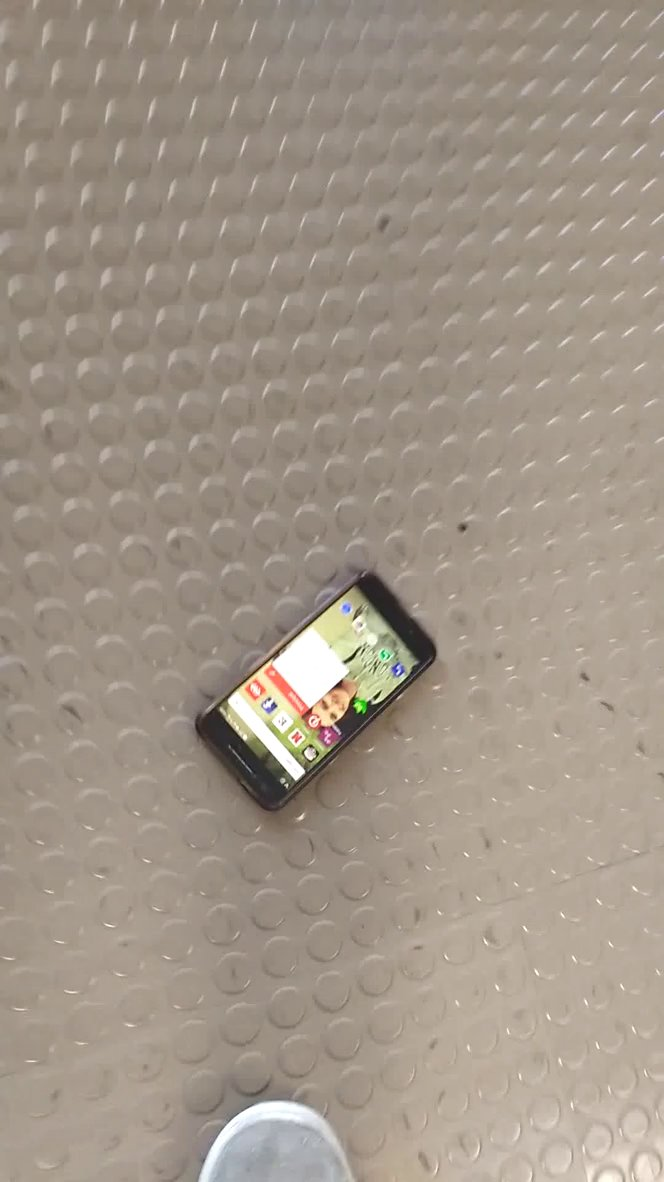phone: (184, 558, 451, 825)
